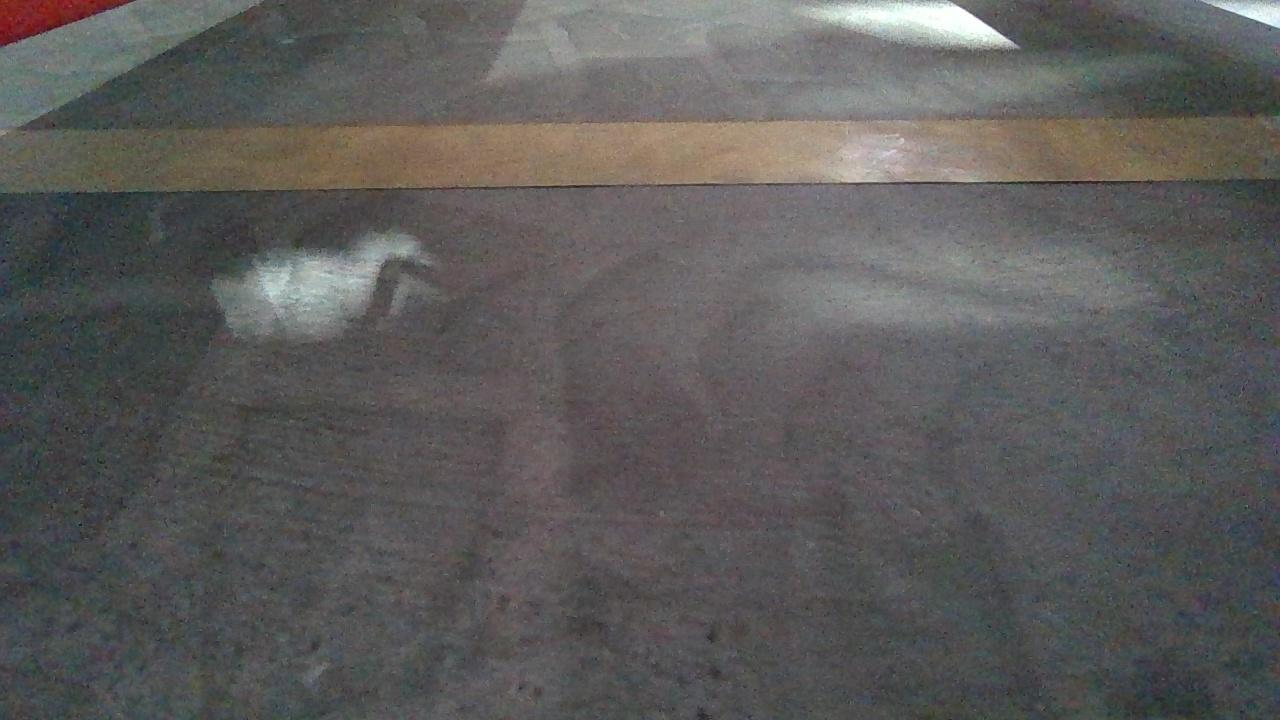yellow_line: (4, 129, 1278, 183)
